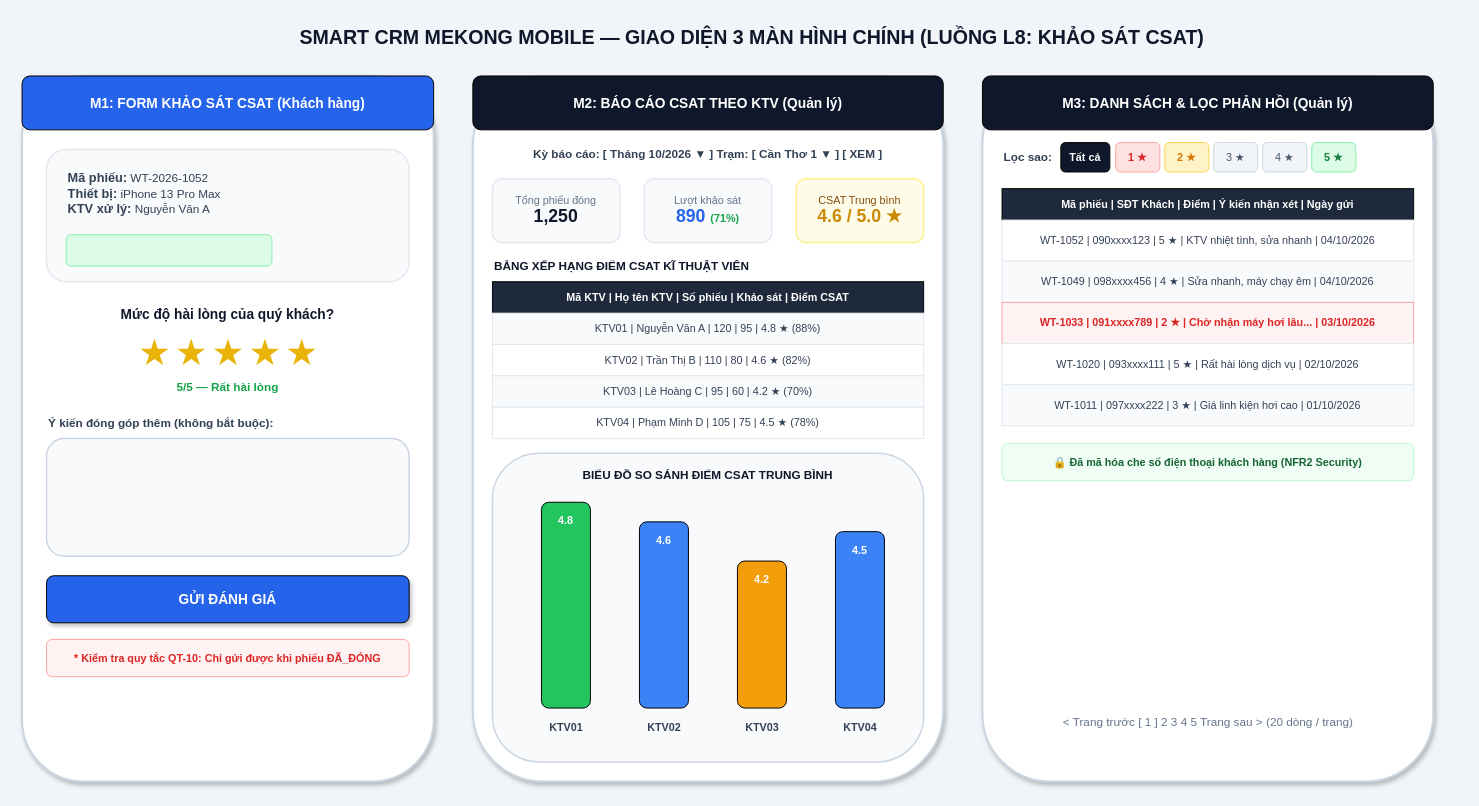
This 1479x806 diagram has some shape labels left out. The shapes that lost their labels are listed below. From the top down, each one's centre as x and y in pixels, then its label:
At (x=168, y=250): "Trạng thái: ĐÃ ĐÓNG (Hoàn tất)".
At (x=227, y=496): "Kỹ thuật viên nhiệt tình, xử lý nhanh chóng...".
